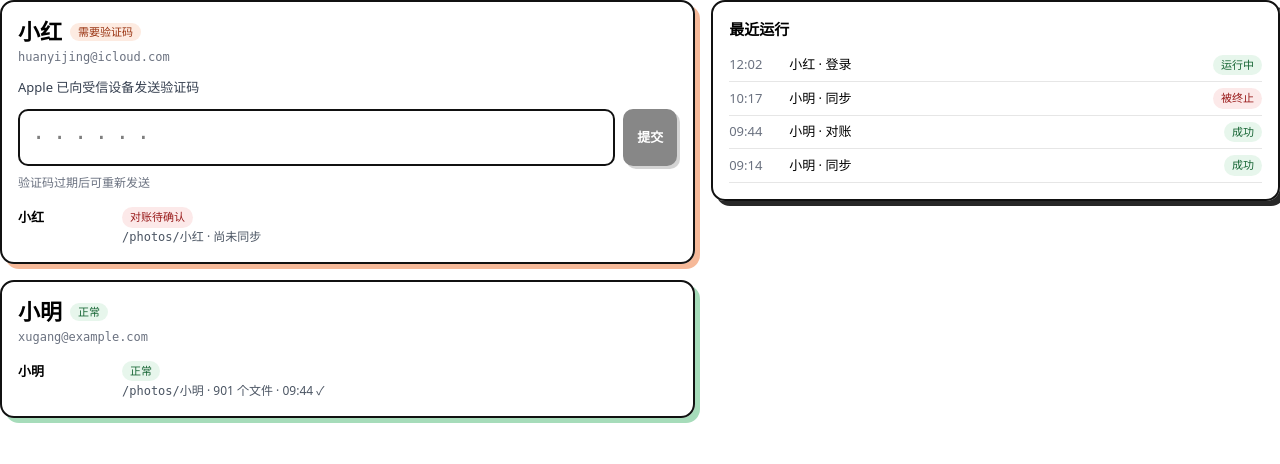
AccountCard 2FA flow › mfa_result ok=false shows the reason, clears and refocuses the input, card stays
This screenshot has width=1280, height=464.
Check: the element "小明" is shown, box [18, 296, 324, 398]
Step 1. Type "111111" into the field named "验证码" → {"x": 317, "y": 138}, box [18, 109, 615, 166]
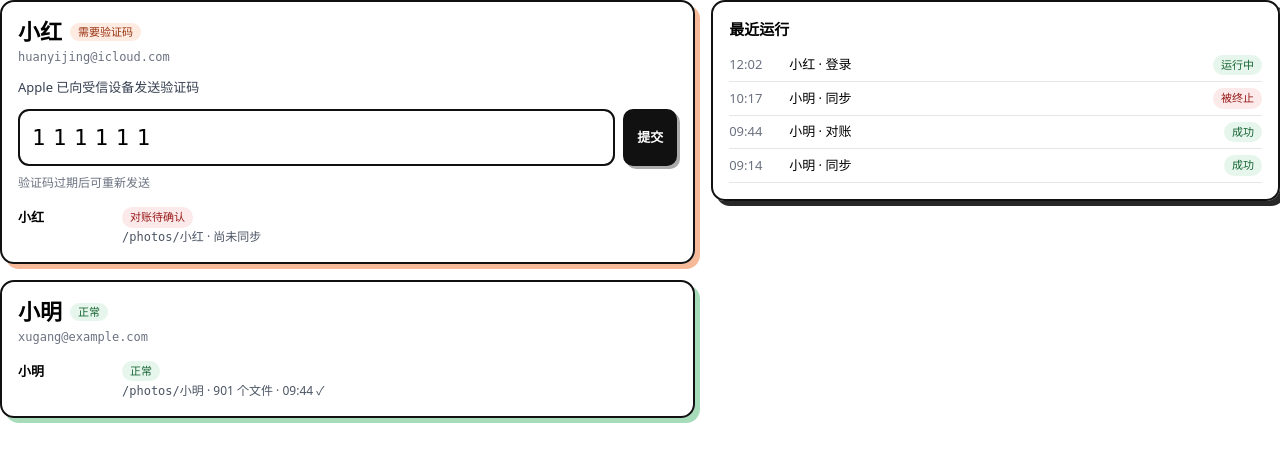
Step 2. Click the element that starts with "需要验证码" → {"x": 640, "y": 209}, box [0, 0, 1279, 418]
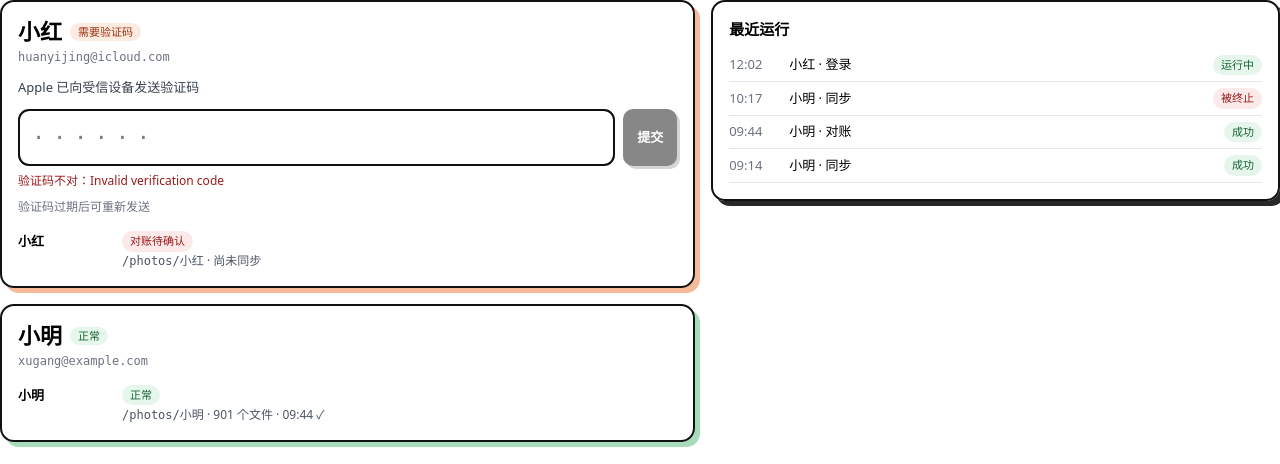
Check: the text "Apple 已向受信设备发送验证码" is shown, box [18, 78, 199, 96]
Check: the text "验证码不对：Invalid verification code" is shown, box [18, 172, 224, 189]
Check: the field named "验证码" is empty, box [18, 109, 615, 166]
